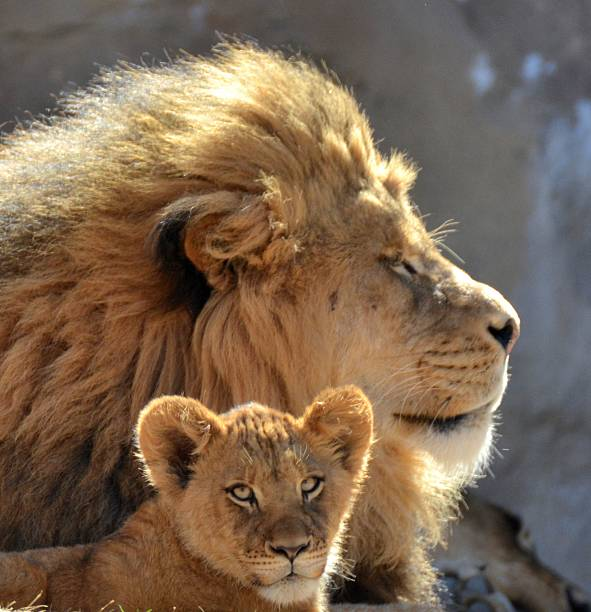lion: (6, 31, 551, 533)
